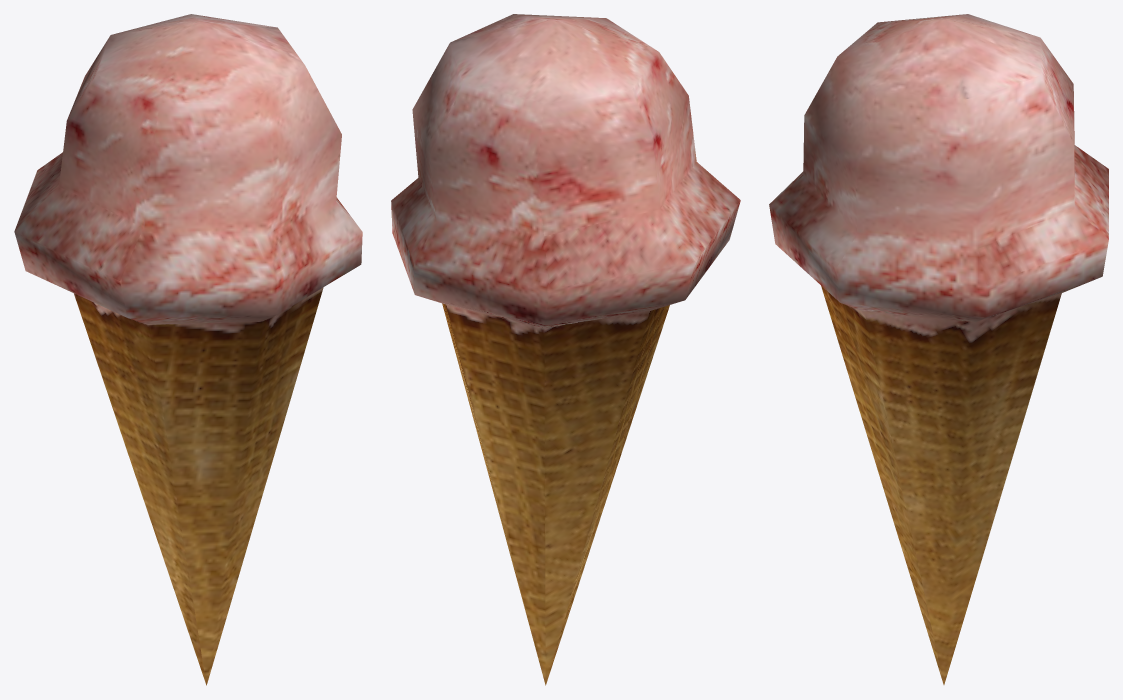
Rendered from Ice_cream_01.dae.
3 views of the same model, side by side, from view 1: azimuth 30°, elevation 25°; view 2: azimuth 150°, elevation 25°; view 3: azimuth 270°, elevation 25° (orthographic).
Parts seen in each view (by area): view 1: Ice_cream_01; view 2: Ice_cream_01; view 3: Ice_cream_01.
Part boxes in pixels (bbox=[...]): Ice_cream_01: bbox=[14, 14, 362, 685]; Ice_cream_01: bbox=[391, 14, 740, 685]; Ice_cream_01: bbox=[769, 14, 1108, 684].
Size of the model in its own units: 0.1178 by 0.1149 by 0.2471.
1 material, 1 textured.
